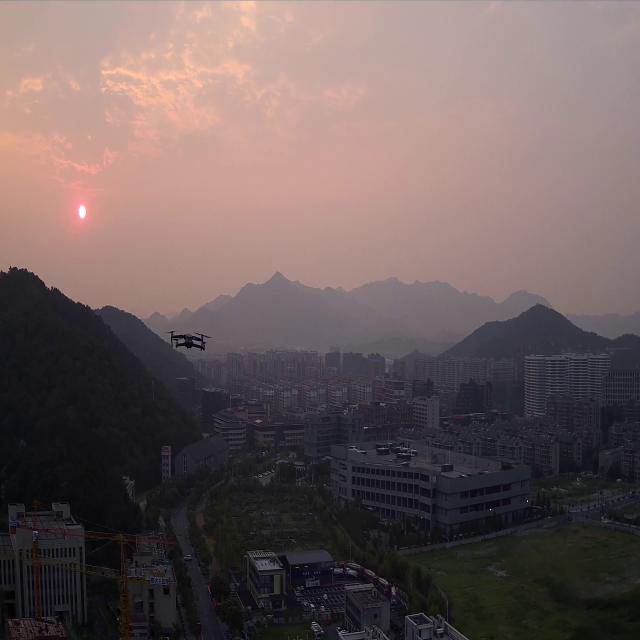UAV: (169, 329, 207, 353)
